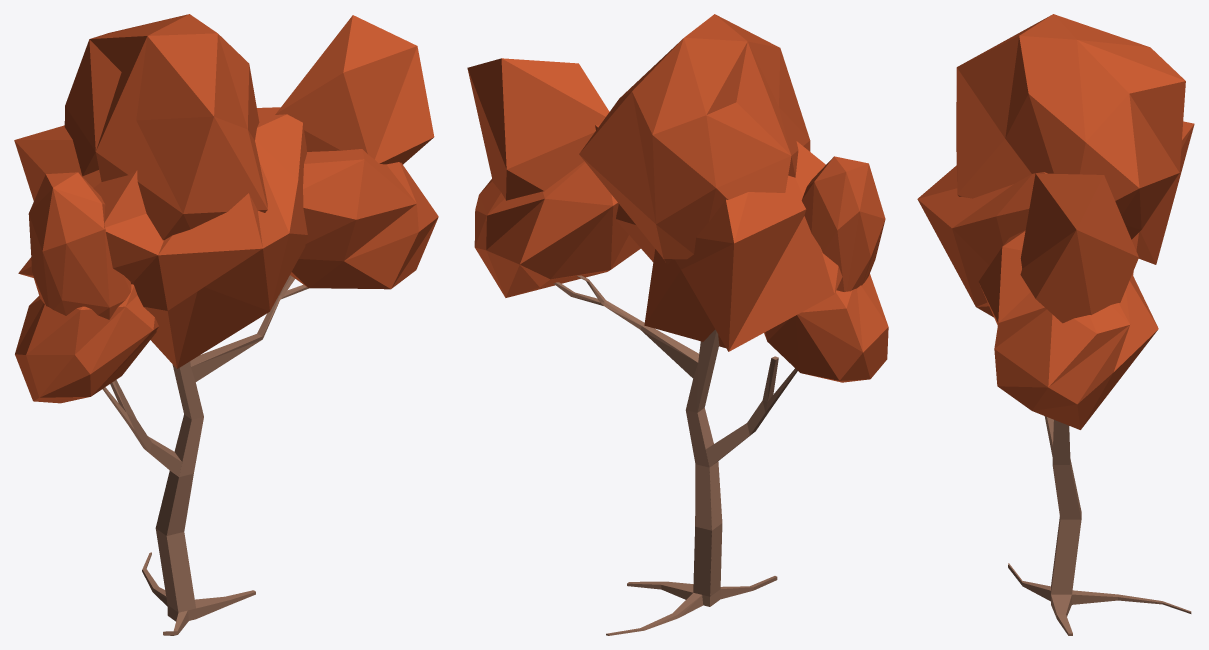
Rendered from world_4_tree_big.dae.
3 renders of one model, left to right at view 1: azimuth 30°, elevation 25°; view 2: azimuth 150°, elevation 25°; view 3: azimuth 270°, elevation 25°, orthographic. The views are drawn at different scales.
Visible parts, largest first — view 1: big_orange_leaves, big_orange_base; view 2: big_orange_leaves, big_orange_base; view 3: big_orange_leaves, big_orange_base.
Boxes of the visible parts, x1=… form: big_orange_leaves: x1=14, y1=14, x2=438, y2=403; big_orange_base: x1=102, y1=275, x2=308, y2=635; big_orange_leaves: x1=467, y1=14, x2=888, y2=382; big_orange_base: x1=553, y1=275, x2=797, y2=635; big_orange_leaves: x1=917, y1=14, x2=1194, y2=429; big_orange_base: x1=1008, y1=416, x2=1191, y2=635.
Size of the model in its own units: 6.55 by 3.88 by 8.82.
